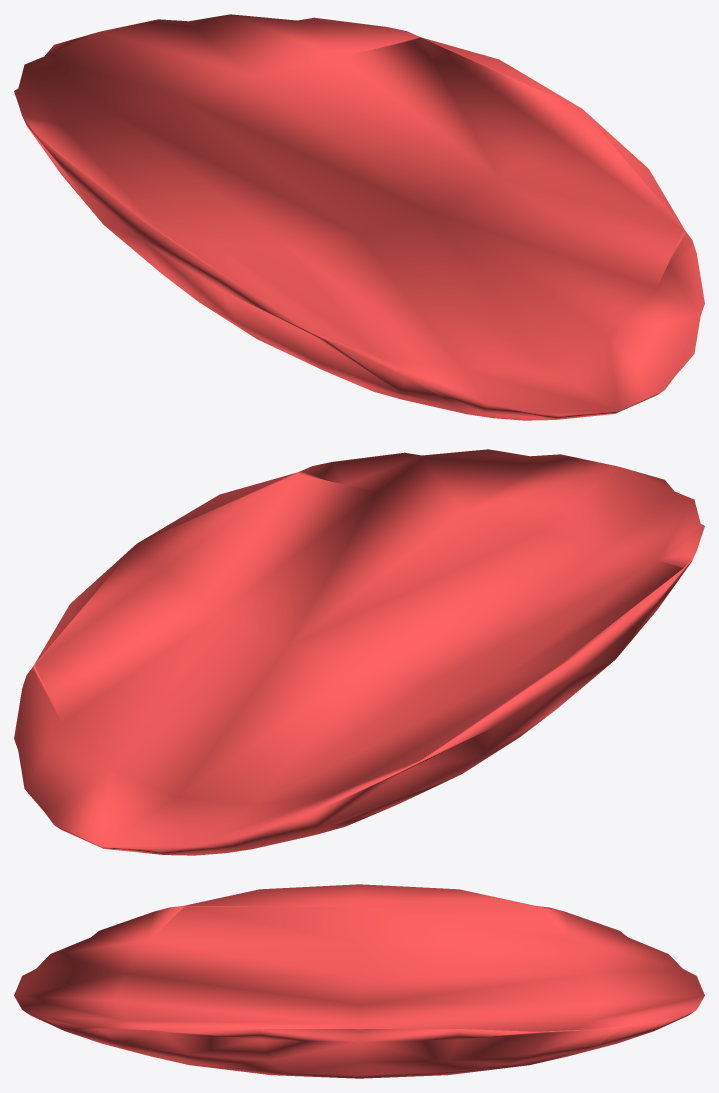
File: ToyTongue.fbx
3 views of the same model, one above another, from view 1: azimuth 30°, elevation 25°; view 2: azimuth 150°, elevation 25°; view 3: azimuth 270°, elevation 25° (orthographic). The views are drawn at different scales.
Visible parts, largest first — view 1: Tounge1.001; view 2: Tounge1.001; view 3: Tounge1.001.
Part boxes in pixels (x1,y1,x2,y2): Tounge1.001: (14,14,704,420); Tounge1.001: (14,449,704,855); Tounge1.001: (14,884,704,1078).
Size of the model in its own units: 585 by 190 by 1179.
